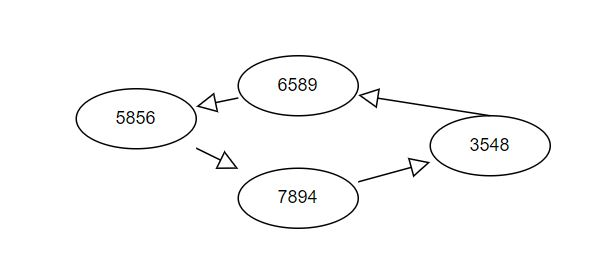generalization: (358, 85, 485, 116), (357, 158, 433, 183), (193, 146, 239, 172), (196, 90, 238, 113)
text: (266, 75, 325, 95), (113, 106, 160, 126), (467, 134, 513, 154), (275, 187, 320, 206)
use_case: (236, 54, 357, 117), (431, 114, 551, 177), (75, 88, 196, 150), (238, 168, 359, 228)
